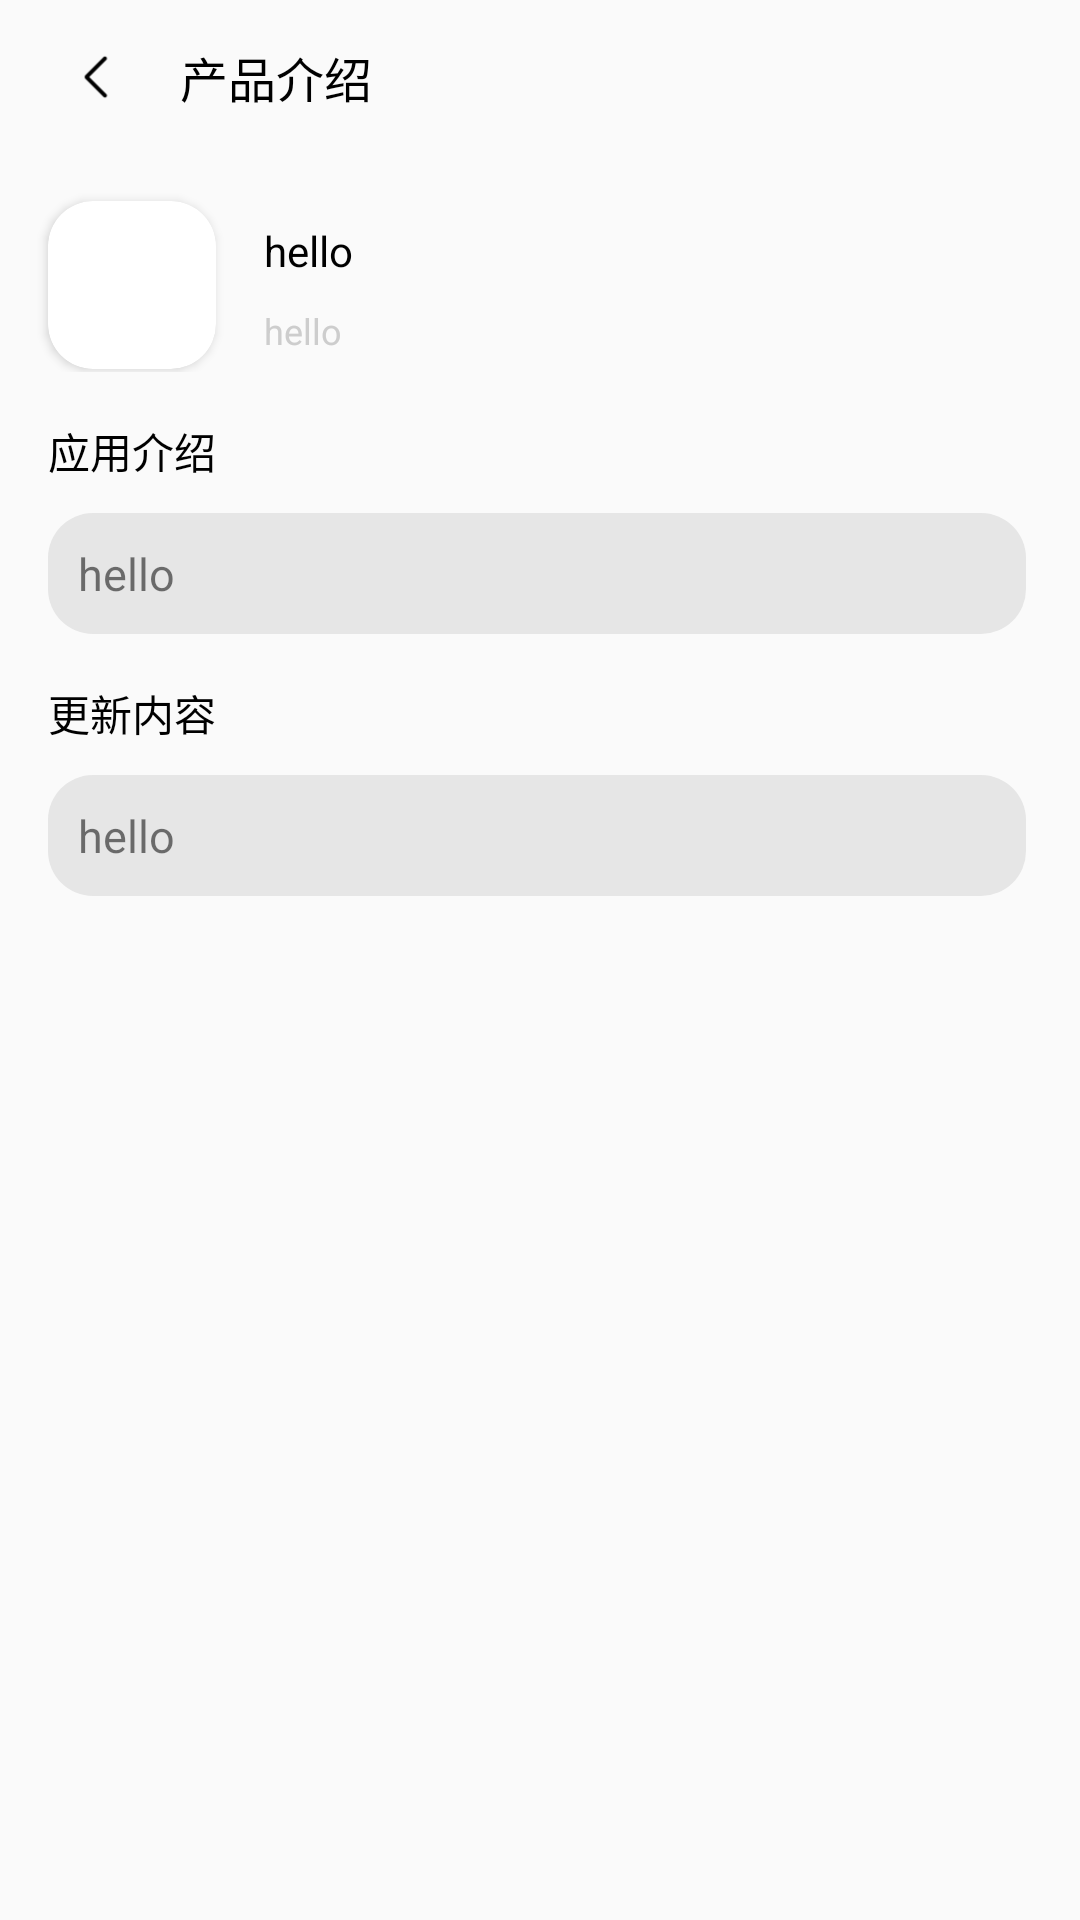

Icons on this 1080 × 1920 Android screen, each with the point to tap as (x,y):
back: (96,77)
